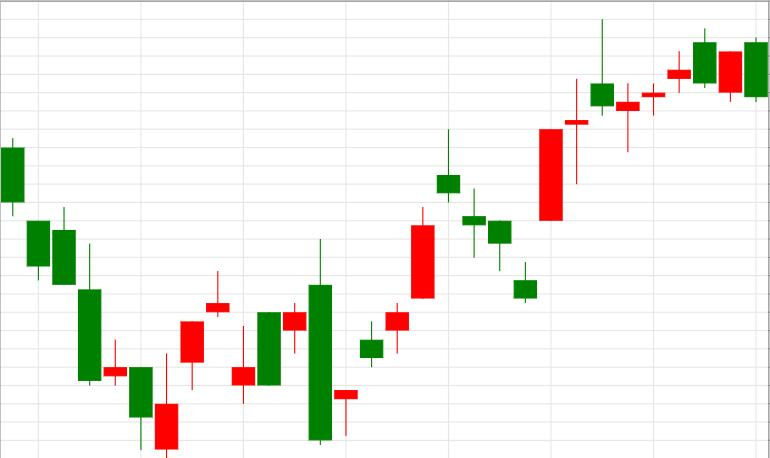bullish_engulfing_rise: (0, 137, 178, 458)
shooting_star_fall: (334, 129, 461, 436), (514, 20, 614, 303)
